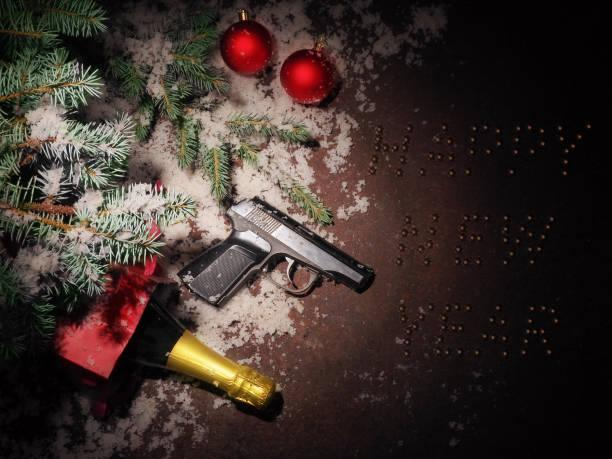weapon: (178, 193, 379, 309)
